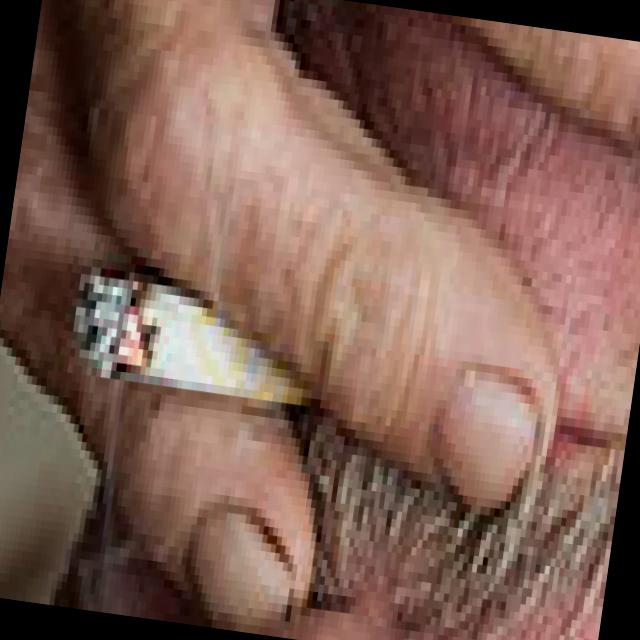cigarette: (64, 270, 316, 414)
